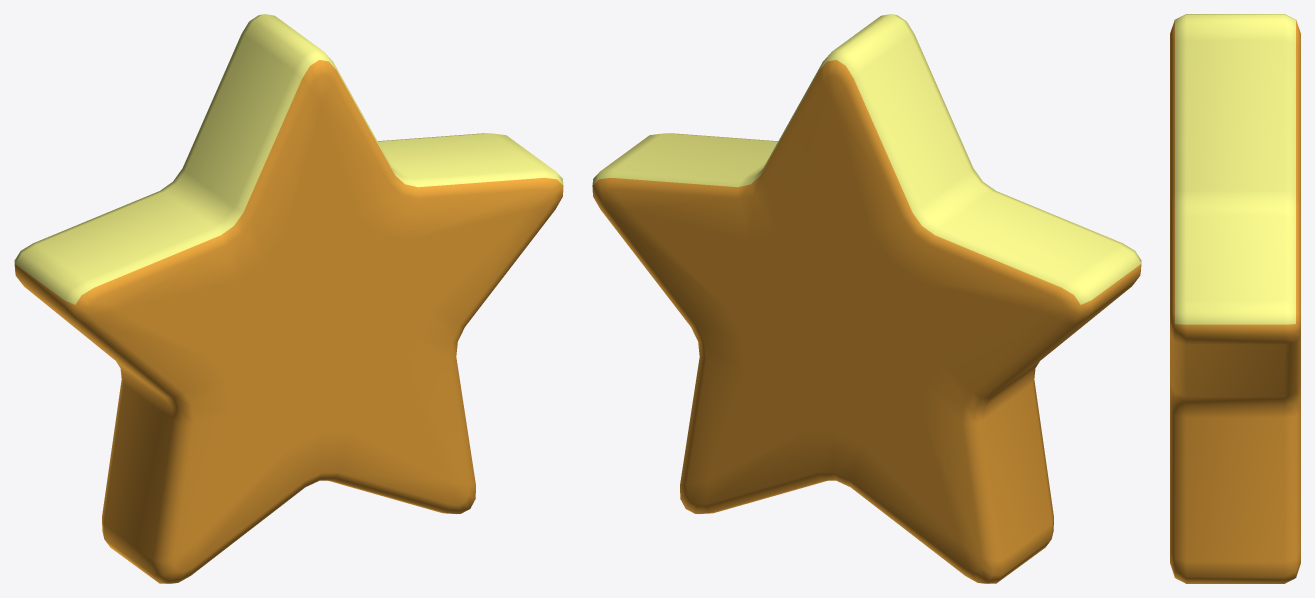
The model's file is Star.fbx.
The picture shows the model from 3 angles, left to right: view 1: azimuth 30°, elevation 25°; view 2: azimuth 150°, elevation 25°; view 3: azimuth 270°, elevation 25°; orthographic projection.
Parts seen in each view (by area): view 1: Star; view 2: Star; view 3: Star.
Part boxes in pixels (bbox=[...]): Star: bbox=[14, 14, 563, 583]; Star: bbox=[592, 14, 1141, 583]; Star: bbox=[1170, 14, 1300, 583].
Size of the model in its own units: 0.3507 by 0.3356 by 0.08.
